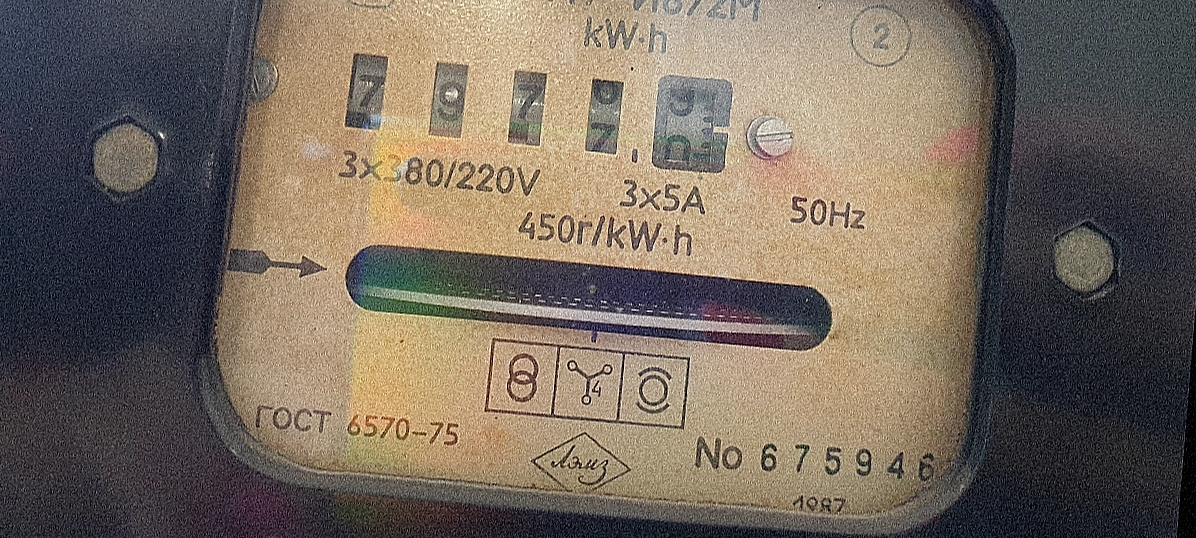0: (659, 128, 695, 169)
7: (352, 70, 386, 114), (511, 79, 544, 124), (584, 118, 617, 156)
9: (431, 77, 468, 124), (665, 81, 698, 119)
screen: (321, 28, 759, 198)
